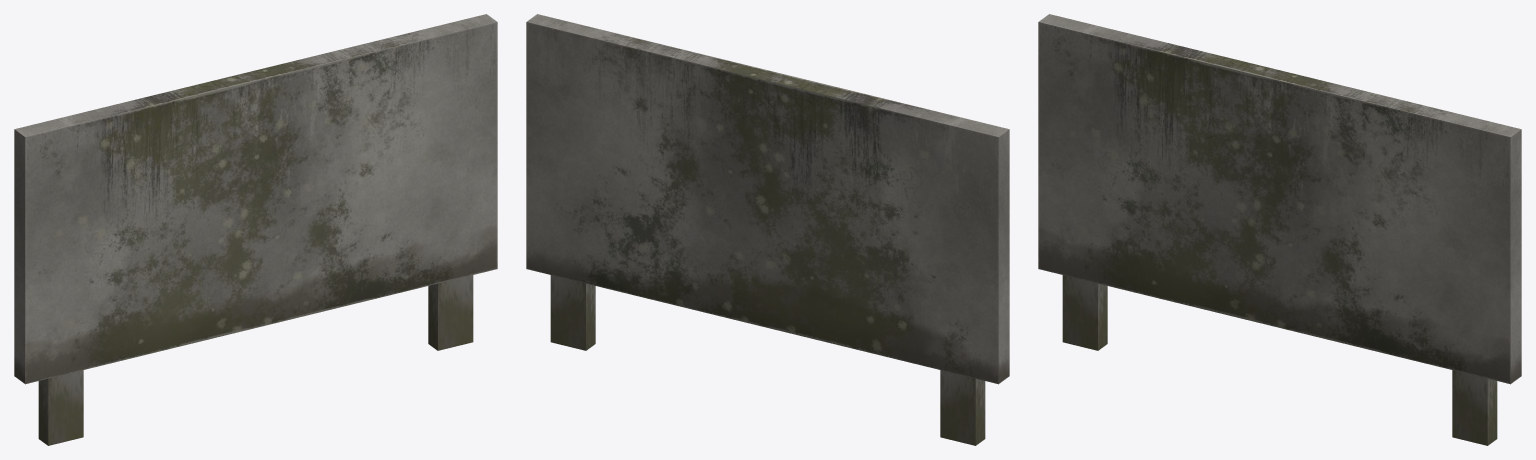
Rendered from fence_po2_C_lod2_web.glb.
3 views of the same model, side by side, from view 1: azimuth 30°, elevation 25°; view 2: azimuth 150°, elevation 25°; view 3: azimuth 330°, elevation 25° (orthographic).
Parts seen in each view (by area): view 1: FencePO2_C_lod2; view 2: FencePO2_C_lod2; view 3: FencePO2_C_lod2.
Boxes of the visible parts, x1=… form: FencePO2_C_lod2: x1=14, y1=14, x2=497, y2=445; FencePO2_C_lod2: x1=526, y1=14, x2=1009, y2=445; FencePO2_C_lod2: x1=1038, y1=14, x2=1521, y2=445.
Size of the model in its own units: 4 by 2.55 by 0.1599.
1 material, 1 textured.
